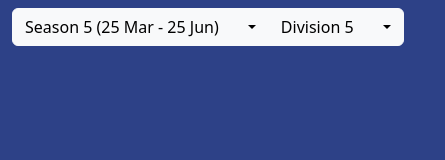
Test: DivisionControls › interactivity › common › can open division drop down
Click the 2nd button with class "dropdown-toggle".
click(385, 27)  # box [366, 8, 404, 46]
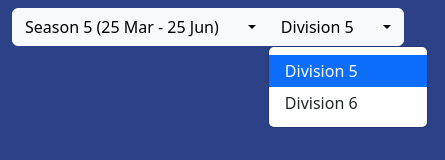
Result: the menu with class "dropdown-menu" is shown at [268, 46, 428, 128]
